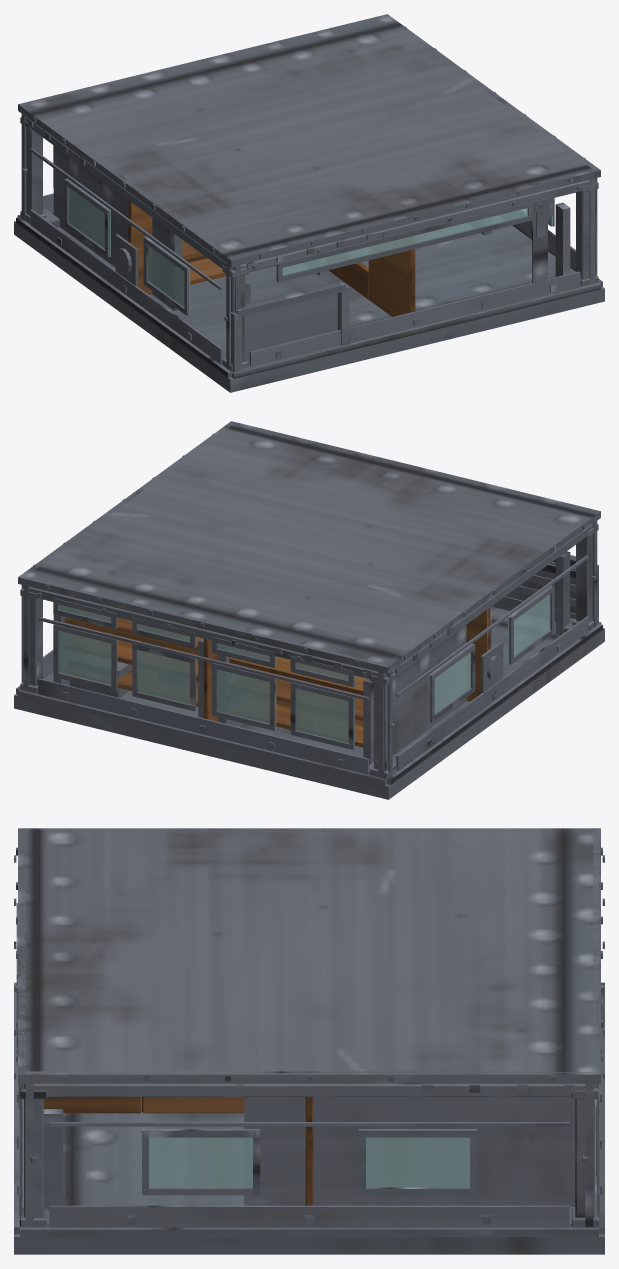
3 views of the same model, one above another, from view 1: azimuth 30°, elevation 25°; view 2: azimuth 150°, elevation 25°; view 3: azimuth 270°, elevation 25° (orthographic). The views are drawn at different scales.
Parts seen in each view (by area): view 1: SM_HDBF_BoxFarm_Advanced_LOD0; view 2: SM_HDBF_BoxFarm_Advanced_LOD0; view 3: SM_HDBF_BoxFarm_Advanced_LOD0.
Boxes of the visible parts, box(x1,y1,x2,y2) form: SM_HDBF_BoxFarm_Advanced_LOD0: box(14, 14, 604, 392); SM_HDBF_BoxFarm_Advanced_LOD0: box(14, 421, 604, 799); SM_HDBF_BoxFarm_Advanced_LOD0: box(14, 828, 604, 1254).
Size of the model in its own units: 3 by 1 by 3.
Materials: 4 (4 with a texture image).
